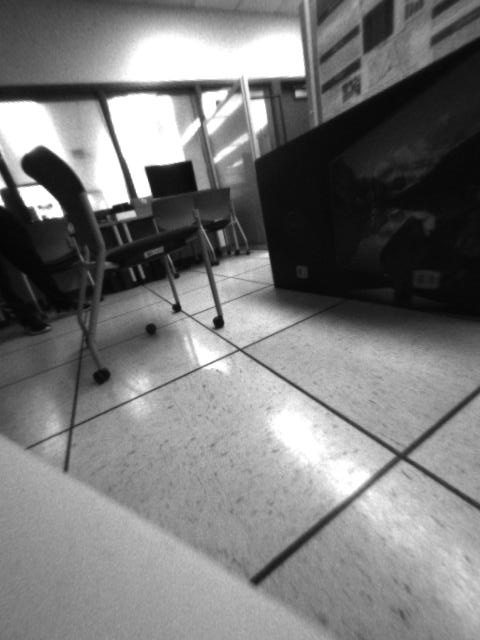dogtoy: (140, 317, 167, 340)
